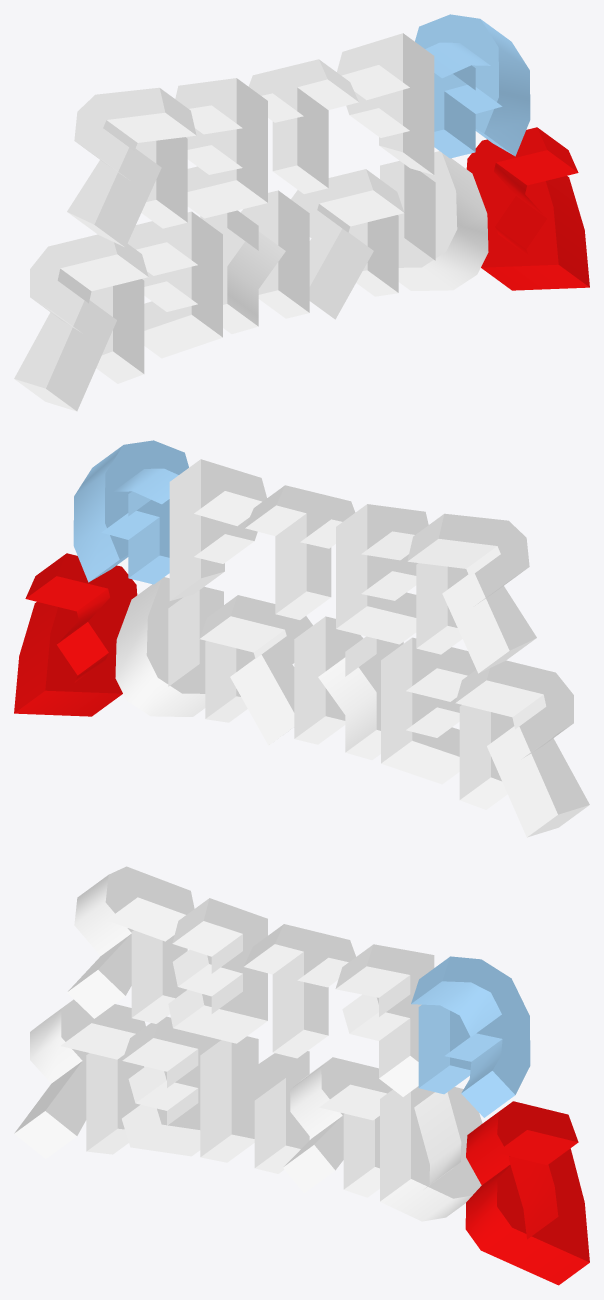
File: ps2_save-icons_segaages2500seriesvol10-afterburnerii.glb
3 renders of one model, top to bottom at view 1: azimuth 30°, elevation 25°; view 2: azimuth 150°, elevation 25°; view 3: azimuth 330°, elevation 25°, orthographic.
Parts seen in each view (by area): view 1: AB2.ico; view 2: AB2.ico; view 3: AB2.ico.
Part boxes in pixels (left/top/right/bottom): AB2.ico: left=14, top=14, right=589, bottom=411; AB2.ico: left=14, top=440, right=589, bottom=837; AB2.ico: left=14, top=866, right=589, bottom=1285.
Bounding box in the file's own units: 4.77 × 2.37 × 0.4746.
1 material, 1 textured.
